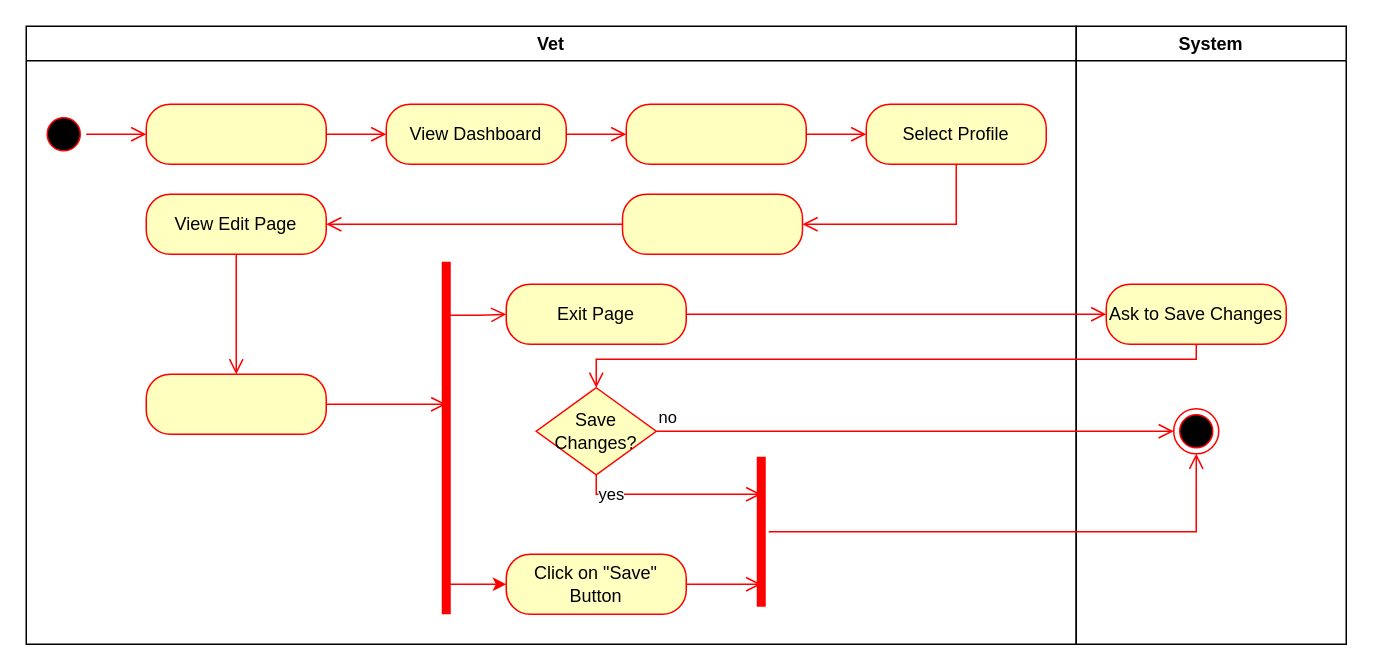
This 1373x671 diagram has some shape labels left out. Each missing label, with the centre of its shape:
Click on "Edit" Buton: the point at 711,223
Click on Menu: the point at 715,133
Edit Profile: the point at 235,403
Login: the point at 235,133
